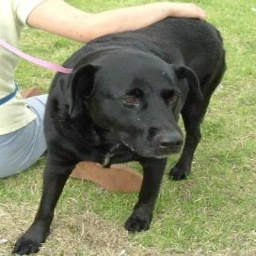dog: (13, 14, 227, 254)
